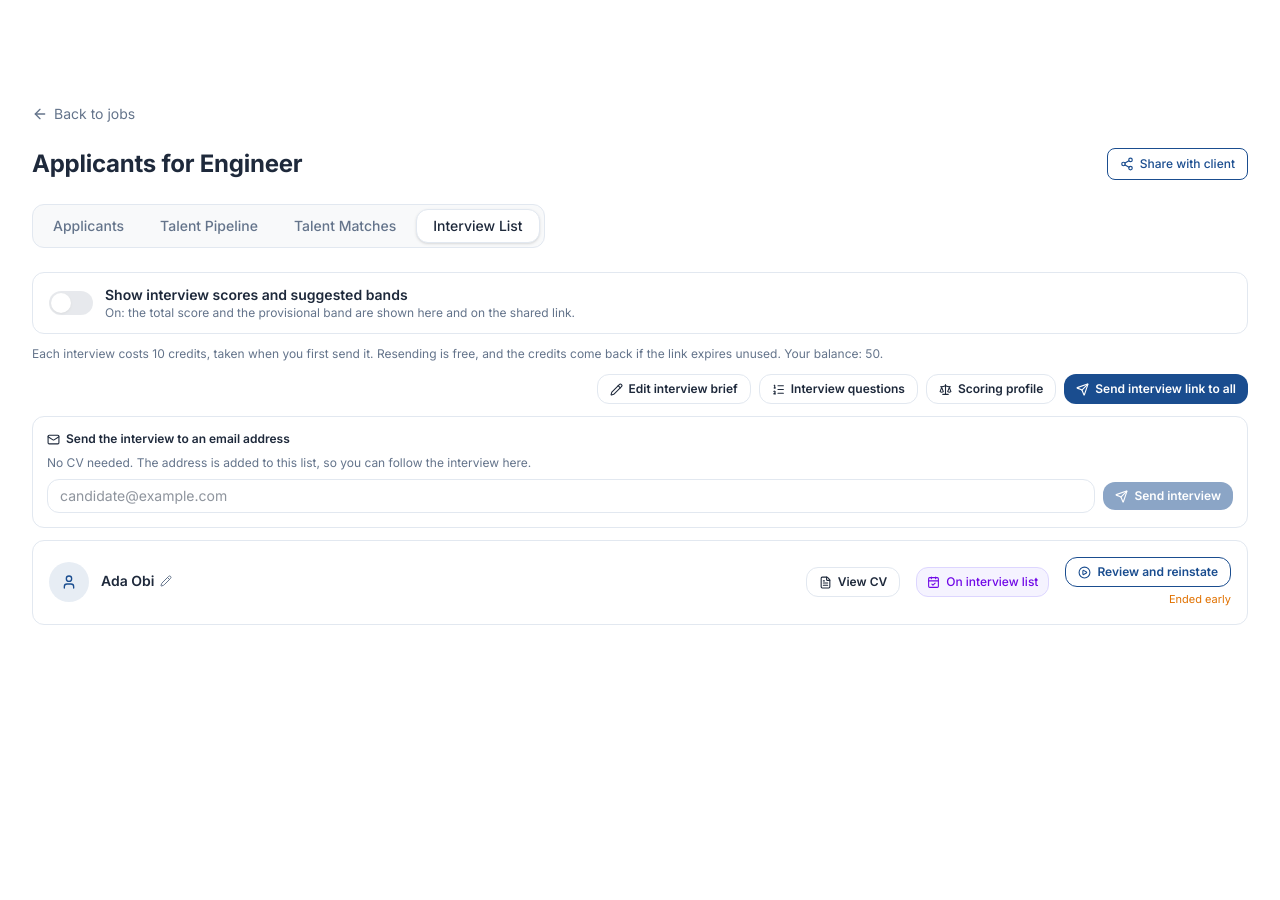
Scenario: ApplicantsPage, Interview List, an interview that ended early › opens the review window from the button
This screenshot has width=1280, height=900.
Click the button "Review and reinstate": (1148, 572) left=1065, top=557, right=1231, bottom=587
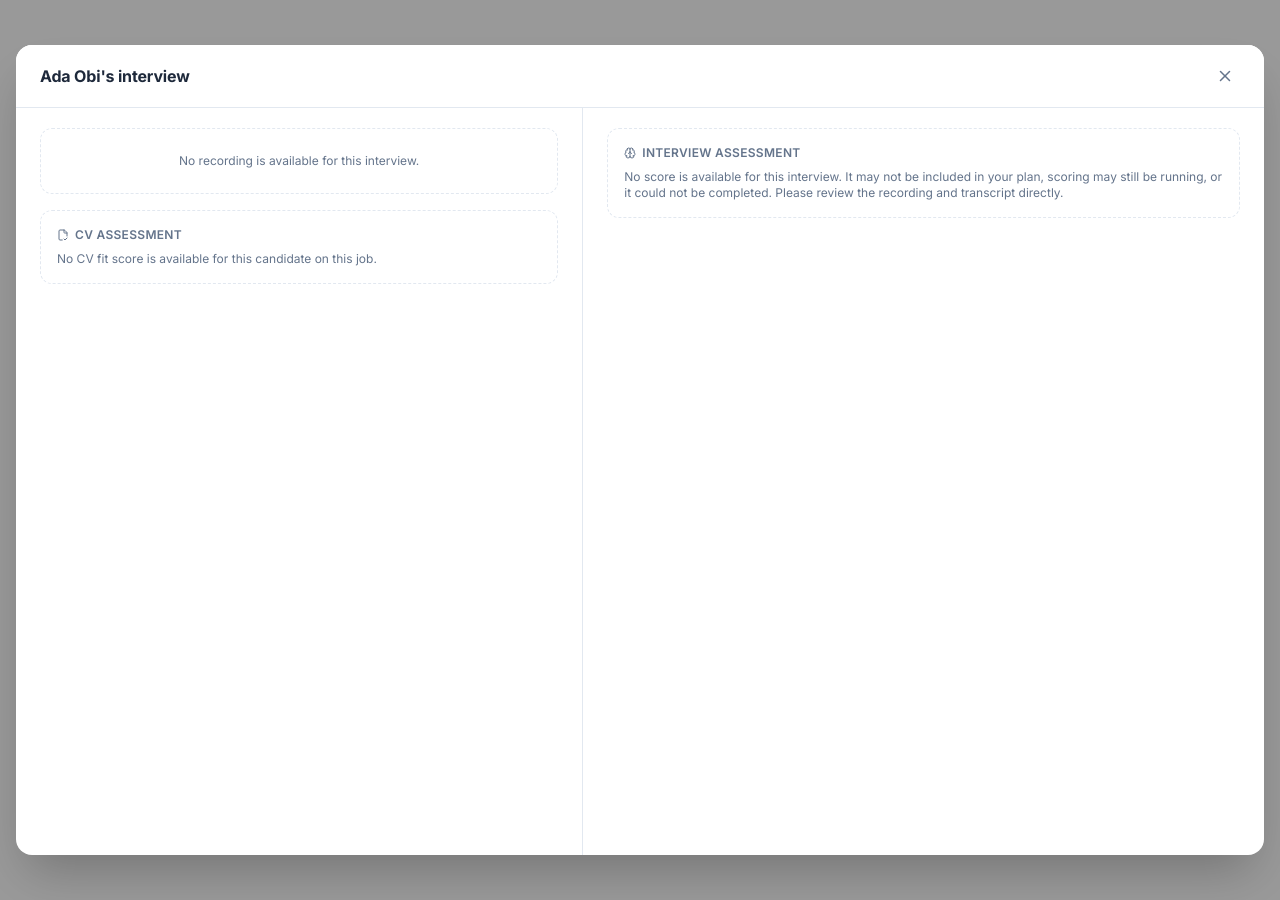
Expected: the dialog named "Interview detail" is shown
